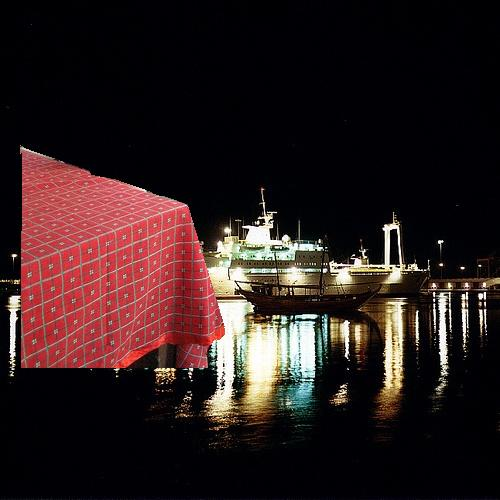tampered: (21, 146, 225, 368)
